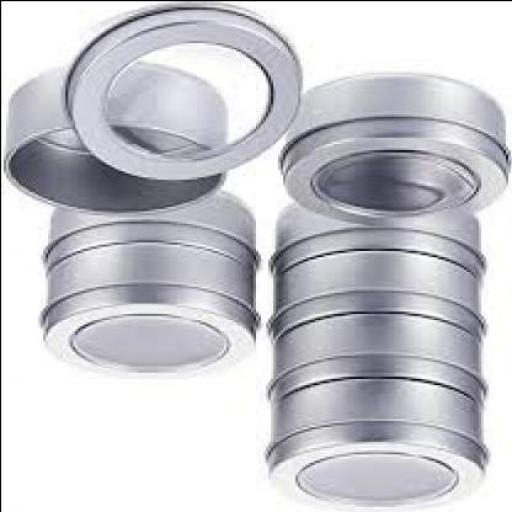metal: (64, 6, 302, 182), (282, 81, 511, 228), (7, 65, 228, 214), (267, 380, 490, 510), (42, 246, 257, 380), (274, 314, 485, 412), (44, 188, 258, 277), (272, 252, 487, 340), (277, 203, 487, 277)
